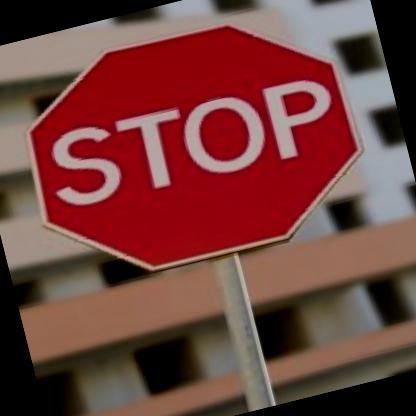stop: (1, 0, 383, 298)
